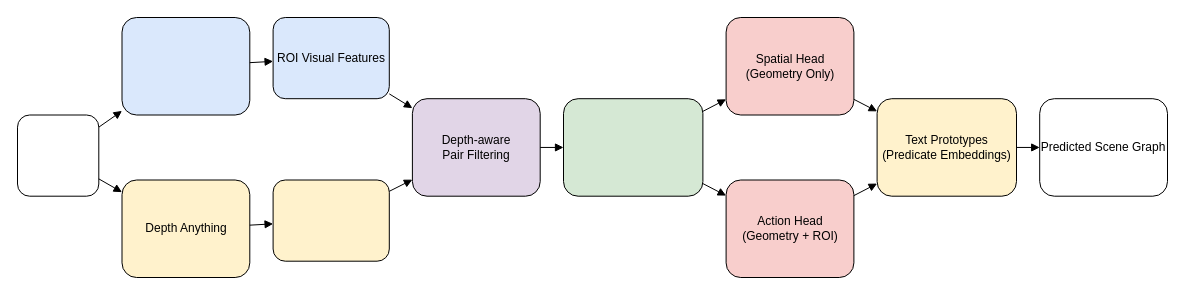
This 1185x295 diagram has some shape labels left out. The centre of each missing label's shape, as x and y in pixels:
"Depth Information" belongs at (x=330, y=220).
"Geometric Feature Construction" belongs at (x=632, y=147).
"GroundingDINO Object Detection" belongs at (x=185, y=65).
"Input Image" belongs at (x=57, y=155).
